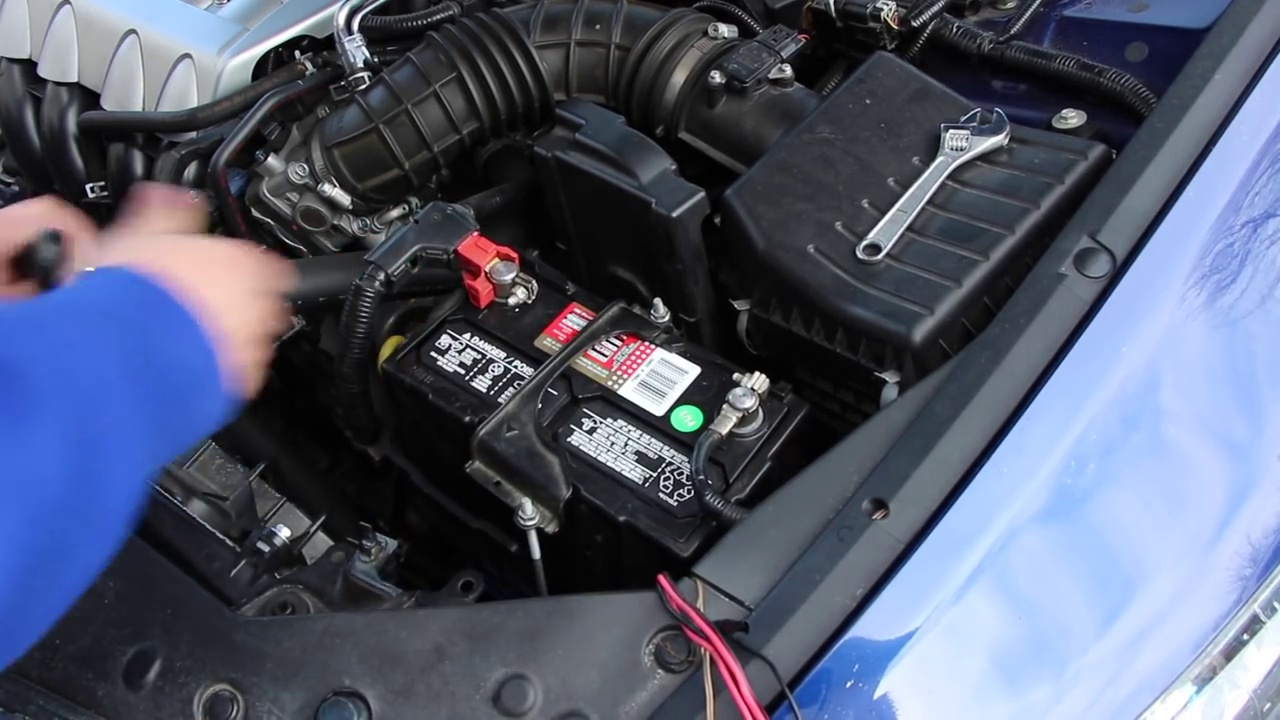battery: (374, 245, 808, 571)
neg_connected: (681, 349, 777, 496)
pos_connected: (414, 197, 536, 335)
